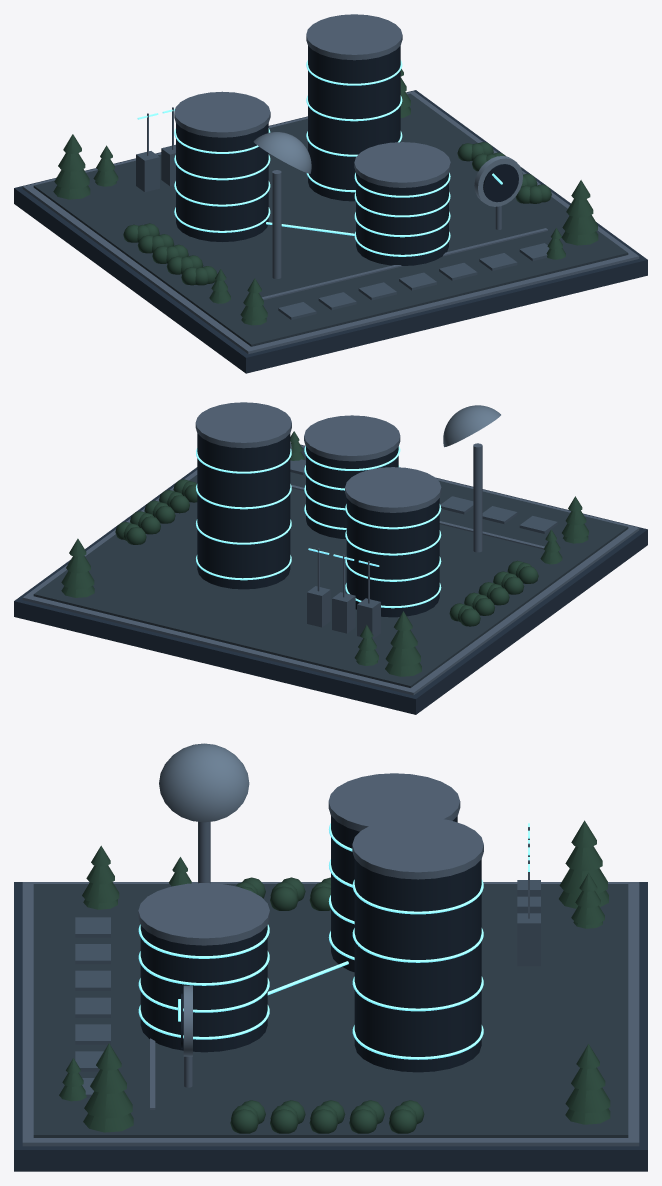
The model's file is district-observability.glb.
The picture shows the model from 3 angles, top to bottom: view 1: azimuth 30°, elevation 25°; view 2: azimuth 150°, elevation 25°; view 3: azimuth 270°, elevation 25°; orthographic projection. The views are drawn at different scales.
Parts seen in each view (by area): view 1: district-observability; view 2: district-observability; view 3: district-observability.
Boxes of the visible parts, x1,y1,x2,y2 form: district-observability: (14,14,647,373); district-observability: (14,402,647,714); district-observability: (14,743,647,1171).
Size of the model in its own units: 8 by 3.2 by 8.
